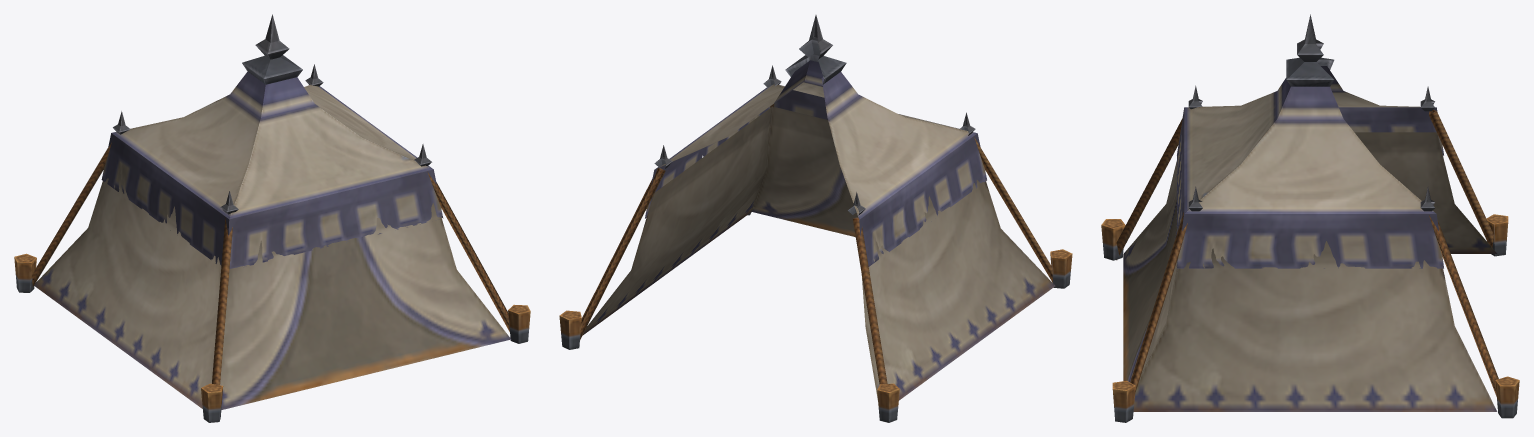
The model's file is tent_5.FBX.
The picture shows the model from 3 angles, left to right: view 1: azimuth 30°, elevation 25°; view 2: azimuth 150°, elevation 25°; view 3: azimuth 270°, elevation 25°; orthographic projection. The views are drawn at different scales.
Visible parts, largest first — view 1: tent_006; view 2: tent_006; view 3: tent_006.
Boxes of the visible parts, box(x1,y1,x2,y2) form: tent_006: box(14, 14, 530, 422); tent_006: box(559, 15, 1072, 422); tent_006: box(1101, 14, 1519, 422).
Size of the model in its own units: 153 by 131 by 153.
